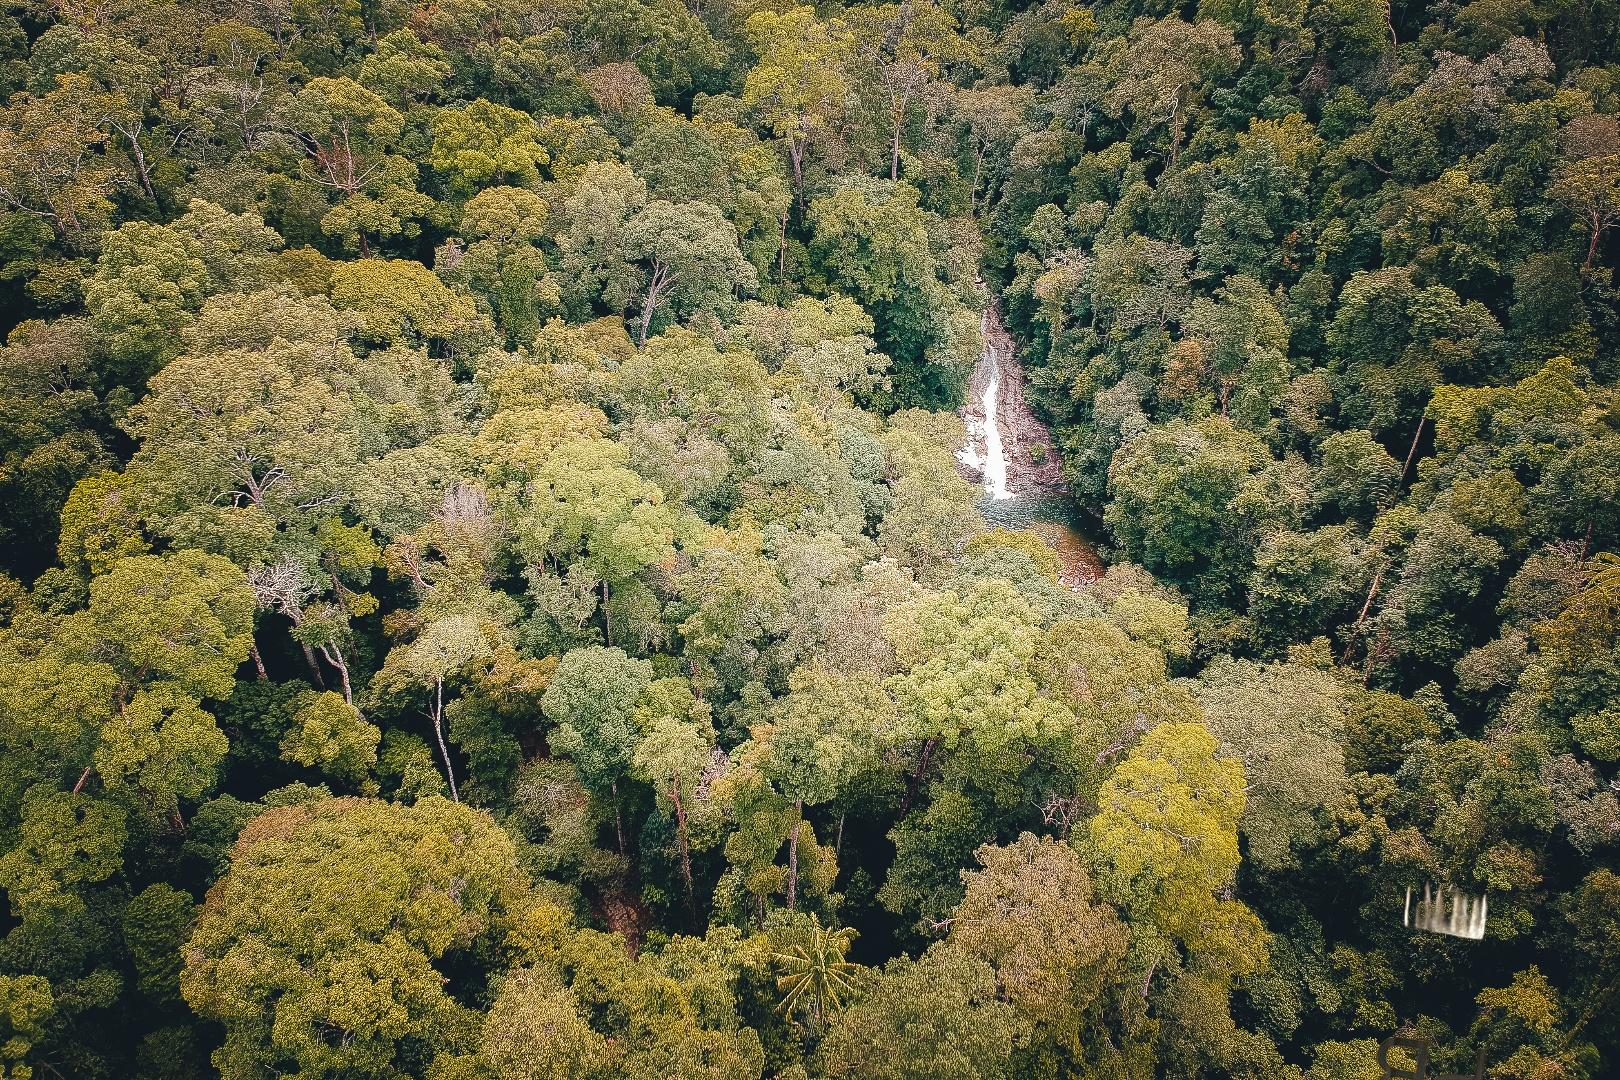trashbox-cardboard: (1372, 723, 1620, 1080)
